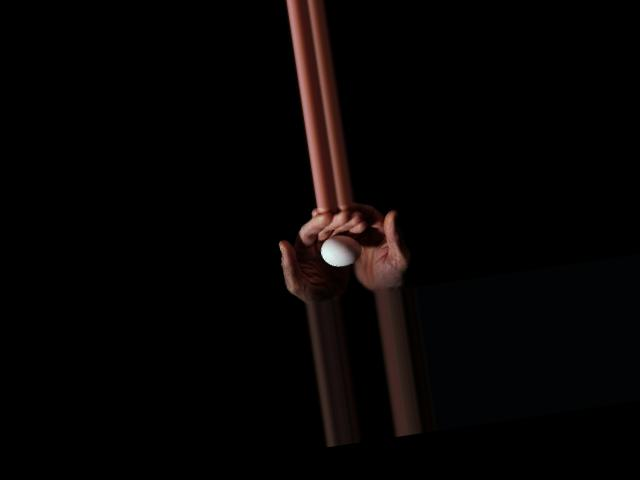egg: (318, 232, 362, 269)
